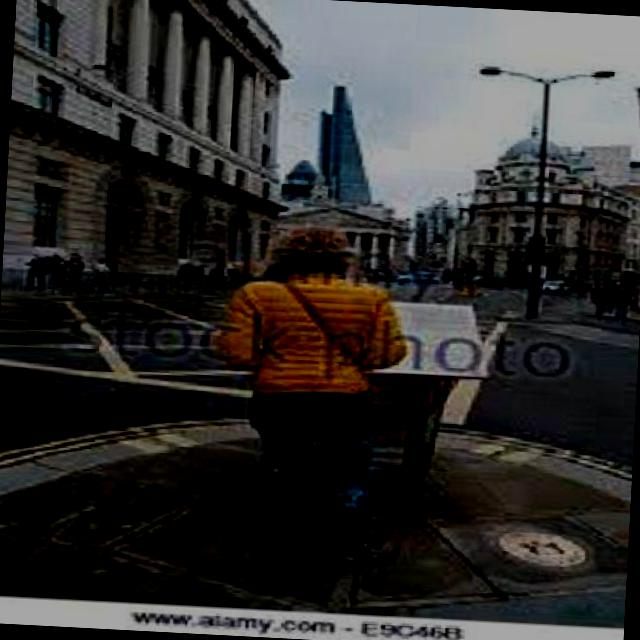Person: (200, 215, 428, 585)
